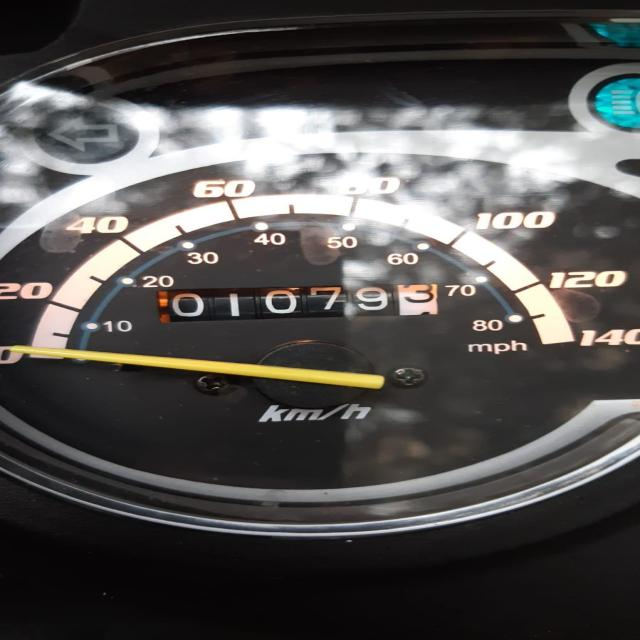odometer: (154, 282, 440, 324)
